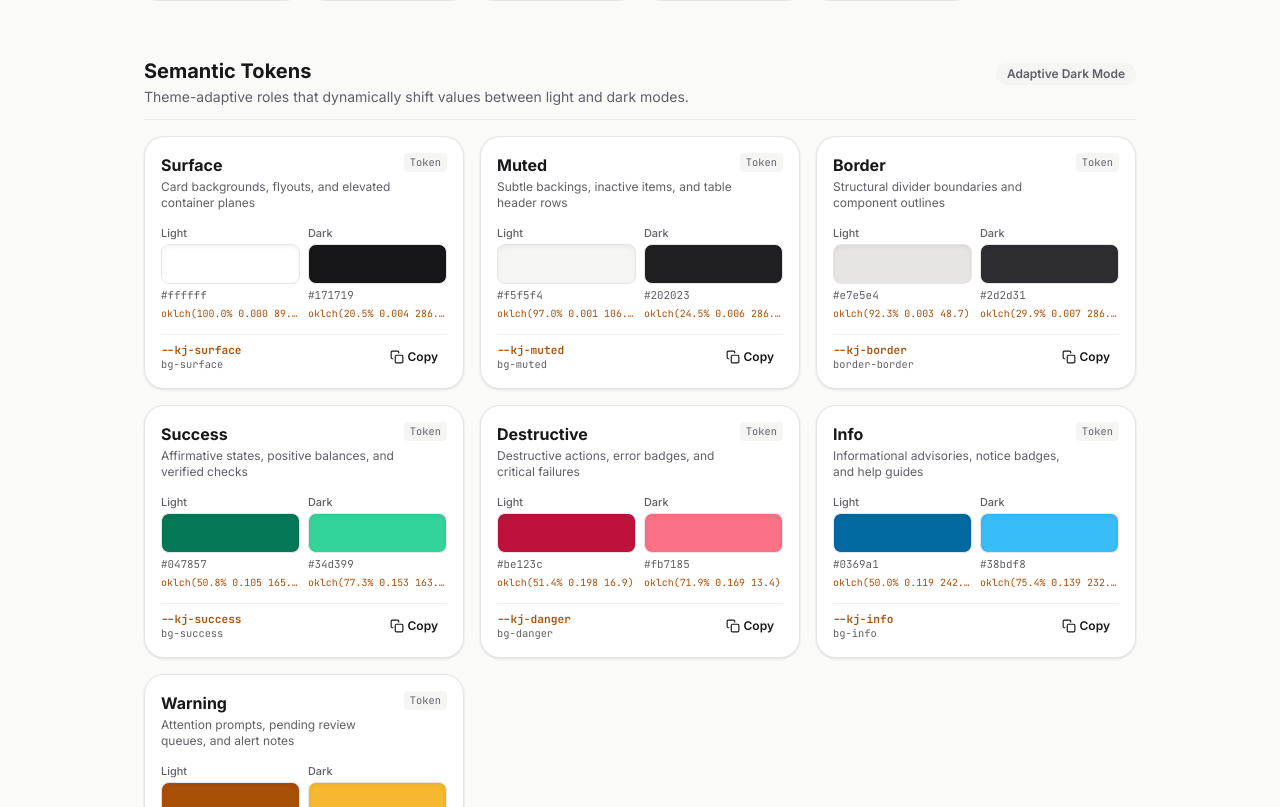
Test: TokensView › copies token value via the single interactive button target on semantic token card
The width and height of the screenshot is (1280, 807).
(page scrolled)
# Click first semantic token copy button (Surface)
Step 1. Click the button named "Copy" next to "--kj-surface" → x=414, y=357, box [380,343,447,371]
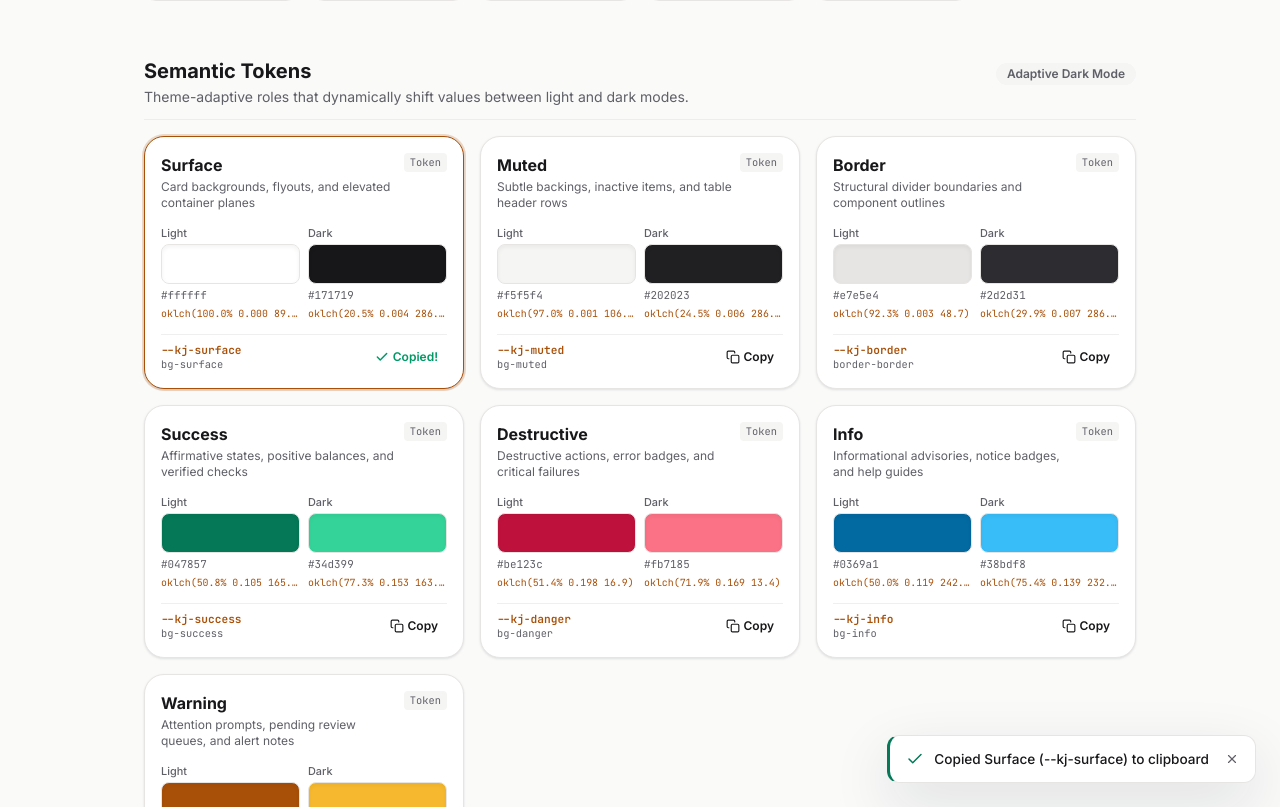
Now the text "Copied!" is shown, box [375,349,438,365]
